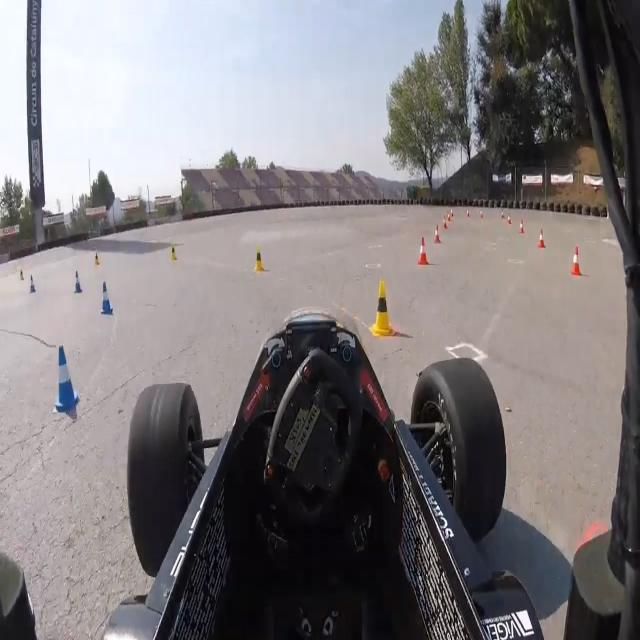blue_cone: (49, 342, 79, 416), (97, 278, 115, 318), (70, 268, 86, 295), (29, 273, 37, 296)
orange_cone: (570, 244, 583, 275), (418, 235, 429, 268), (536, 226, 546, 254), (433, 222, 441, 245), (519, 218, 525, 235), (443, 214, 448, 230), (466, 206, 471, 218), (446, 212, 451, 224), (480, 207, 484, 220), (501, 208, 505, 220), (451, 206, 455, 217), (508, 212, 511, 224)
yellow_cone: (372, 278, 396, 334), (251, 242, 265, 274), (168, 239, 180, 262), (94, 251, 101, 267)
